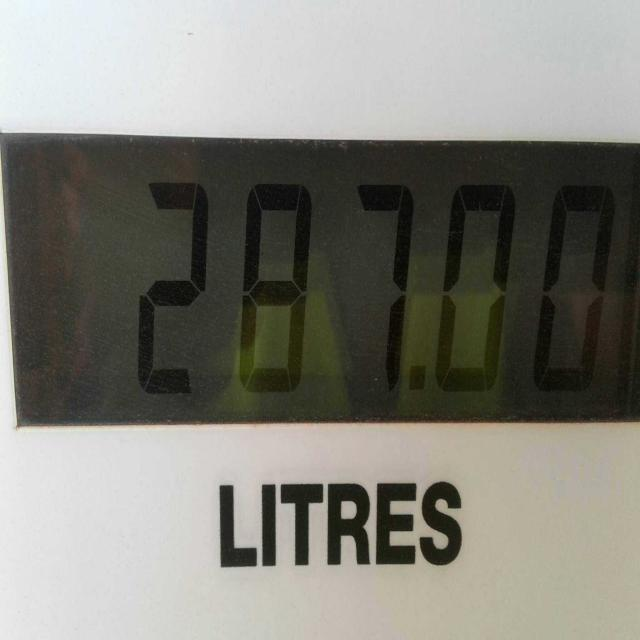.: (410, 367, 426, 398)
0: (533, 189, 614, 401), (434, 186, 510, 398)
2: (142, 179, 212, 400)
7: (355, 180, 407, 382)
8: (239, 189, 308, 402)
